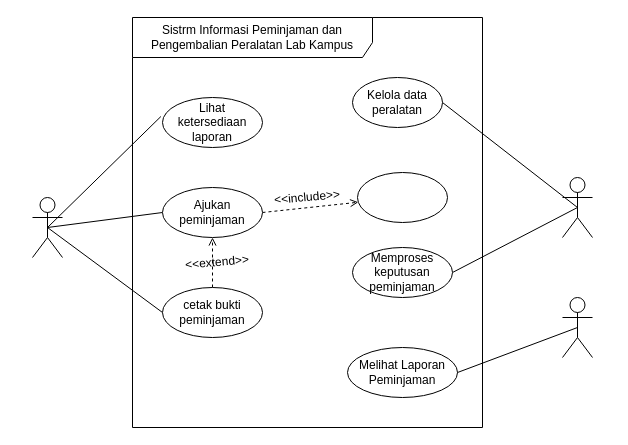
Some shapes in this 628 by 445 pixel diagram are drawn without their labels. Each missing label, with the centre of its shape:
Kepala Lab: [577,327]
Mahasiswa: [47,227]
periksa ketersediaan: [402,197]
Petugas Lab: [577,207]
